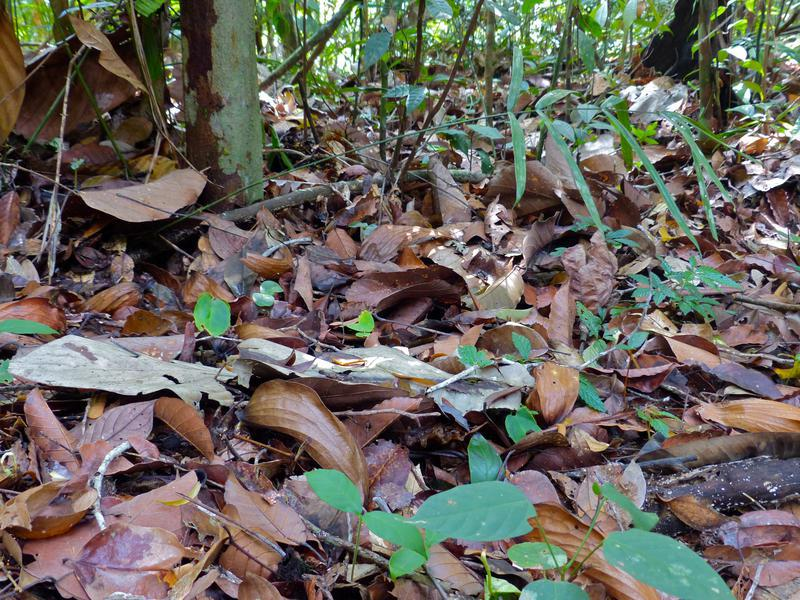leaf: (243, 376, 378, 505), (598, 524, 746, 600), (60, 162, 214, 226), (61, 5, 154, 99), (407, 481, 541, 546), (219, 474, 316, 549), (16, 384, 83, 465), (152, 391, 224, 462), (651, 481, 736, 532), (87, 394, 157, 453), (527, 359, 583, 429), (545, 274, 584, 352), (467, 263, 528, 311), (185, 291, 240, 340), (324, 226, 361, 261)
